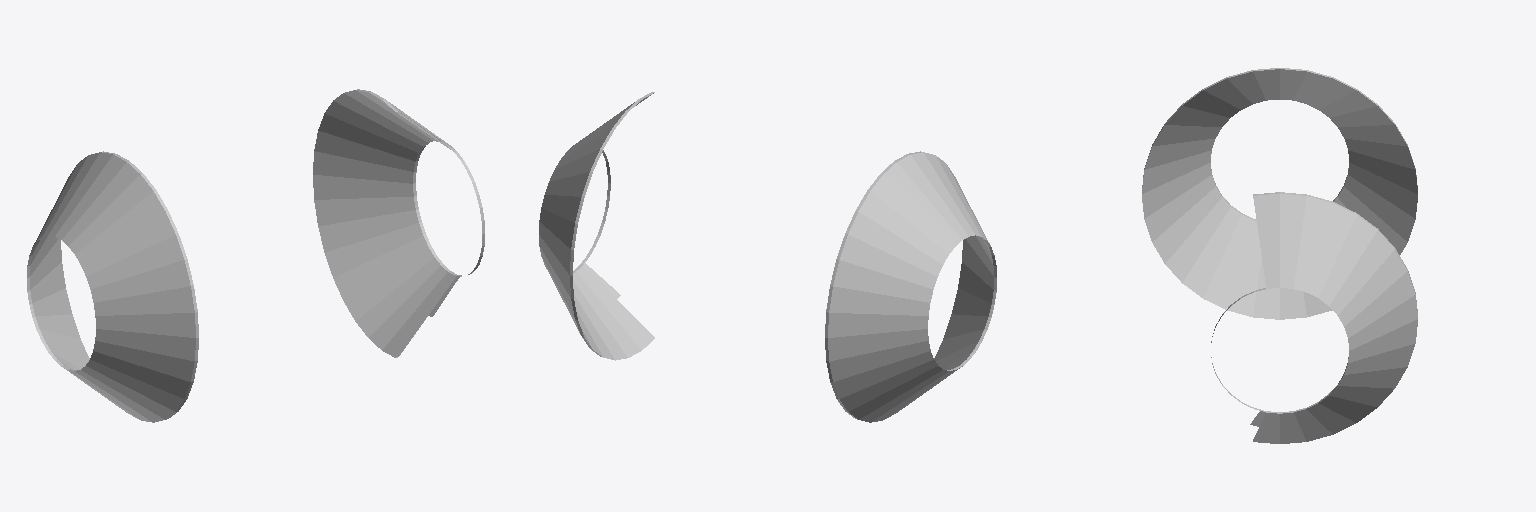
The model's file is RearHubGuards.obj.
The picture shows the model from 3 angles: view 1: azimuth 30°, elevation 25°; view 2: azimuth 150°, elevation 25°; view 3: azimuth 270°, elevation 25°; orthographic projection.
Visible parts, largest first — view 1: BothLHD; view 2: BothLHD; view 3: BothLHD.
Boxes of the visible parts, x1=… form: BothLHD: x1=27, y1=89, x2=484, y2=422; BothLHD: x1=539, y1=92, x2=996, y2=422; BothLHD: x1=1142, y1=68, x2=1417, y2=443.
Size of the model in its own units: 0.1074 by 0.066 by 0.066.